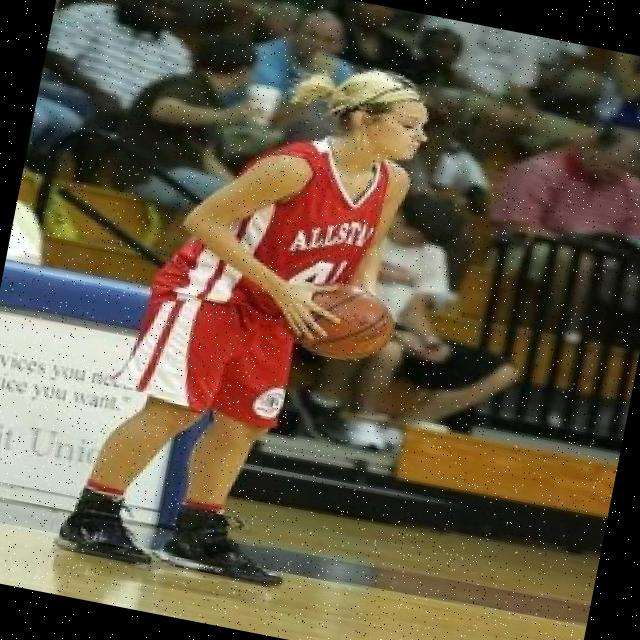ball: (282, 268, 404, 380)
